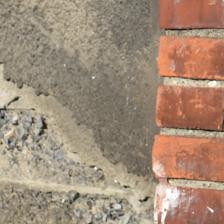Crack: (32, 0, 121, 62), (91, 26, 207, 73)
